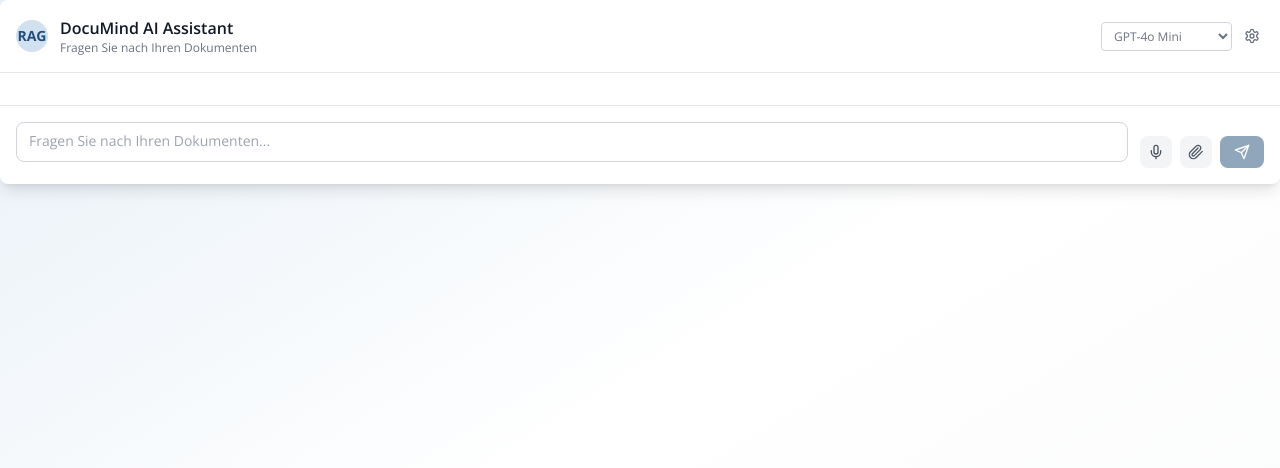
RAGChat - Accessibility › should allow keyboard navigation in textarea
Click on textarea first to ensure focus
Click the text box with placeholder "Fragen Sie nach Ihren Dokumenten...": point(572, 142) top-left (16, 122), bottom-right (1128, 162)
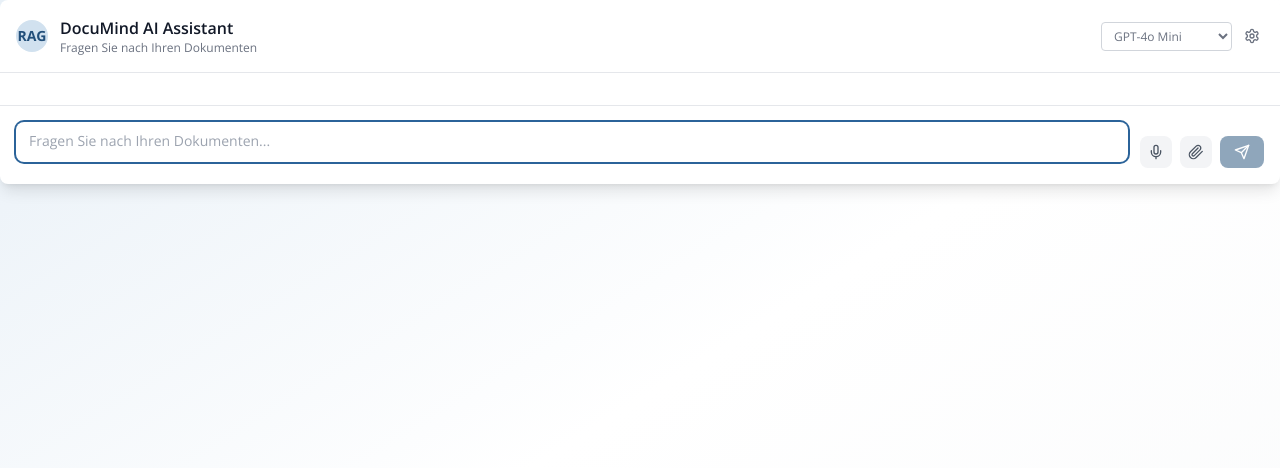
Tippe Text
Type keys "Test"
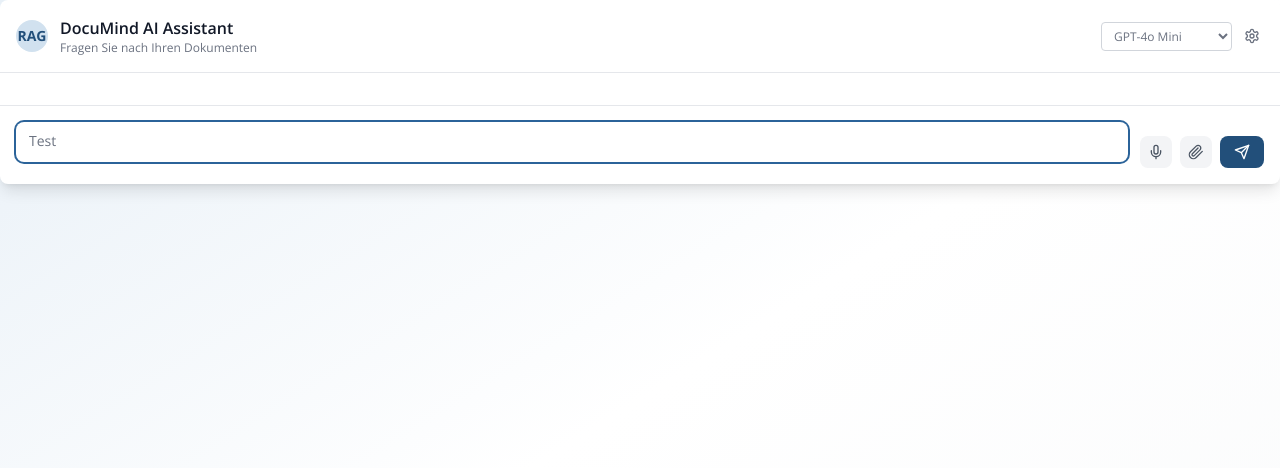
Check: the text box with placeholder "Fragen Sie nach Ihren Dokumenten..." holds "Test", box top-left (16, 122), bottom-right (1128, 162)
